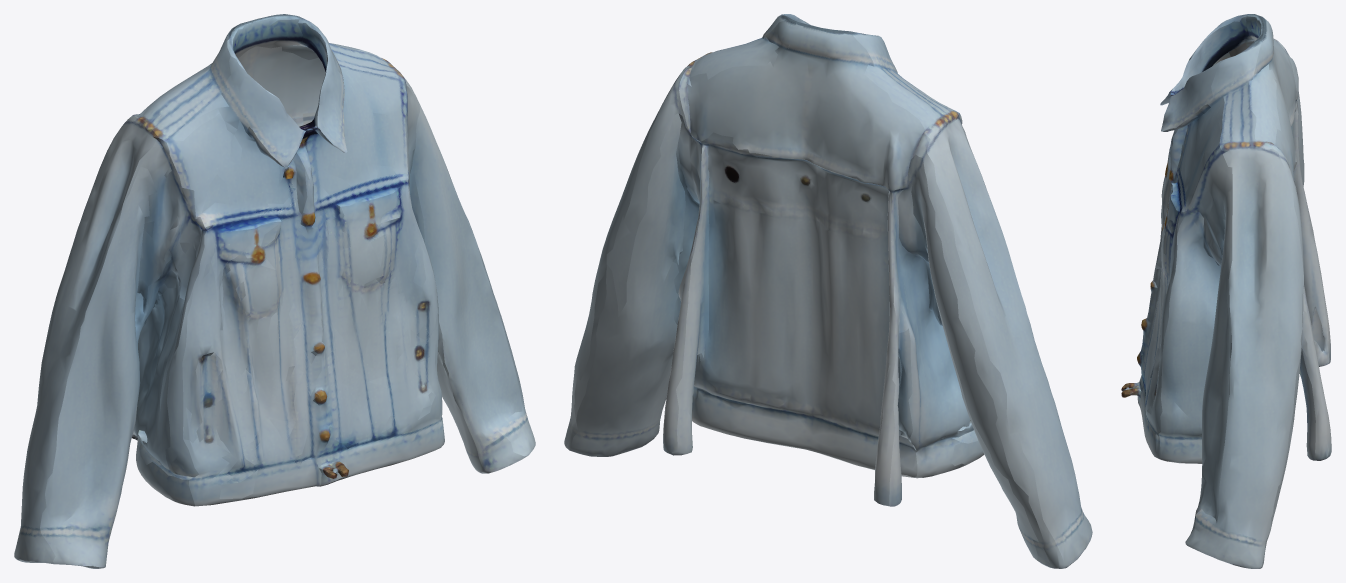
The model's file is denim-jacket.glb.
3 renders of one model, left to right at view 1: azimuth 30°, elevation 25°; view 2: azimuth 150°, elevation 25°; view 3: azimuth 270°, elevation 25°, orthographic. The views are drawn at different scales.
Parts seen in each view (by area): view 1: geometry_0; view 2: geometry_0; view 3: geometry_0.
Part boxes in pixels (x1,y1,x2,y2): geometry_0: [14, 14, 535, 568]; geometry_0: [564, 14, 1092, 568]; geometry_0: [1121, 14, 1331, 568].
Bounding box in the file's own units: 1 × 0.9172 × 0.3991.
1 material, 1 textured.
